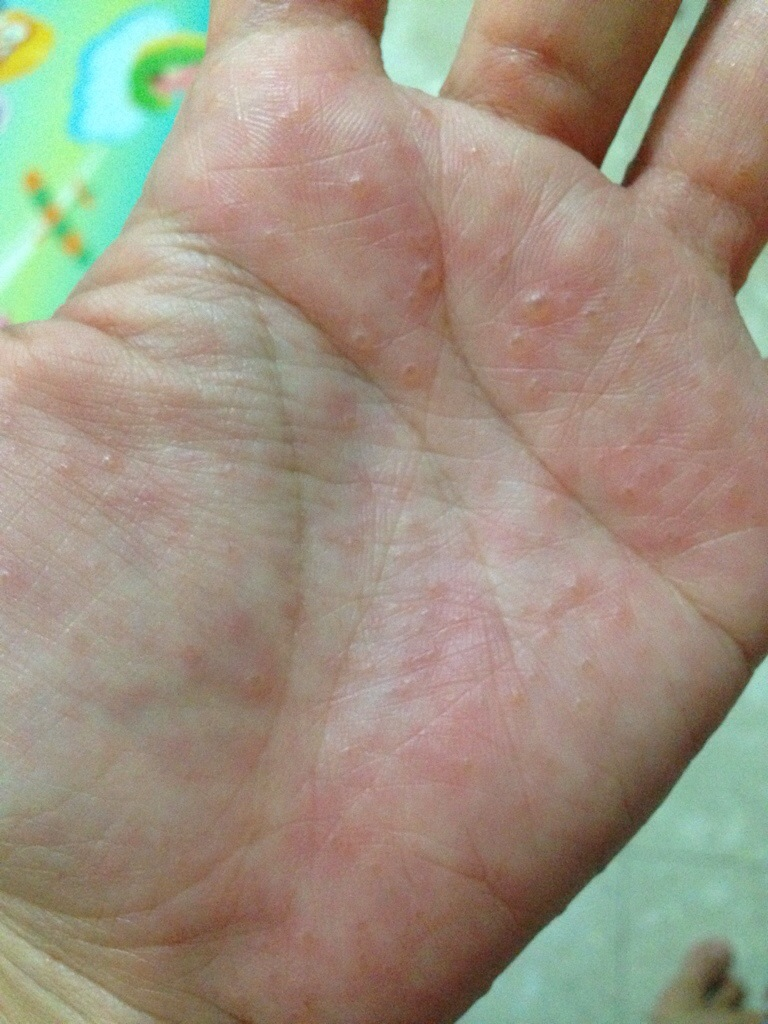Diseased: (140, 97, 706, 887)
